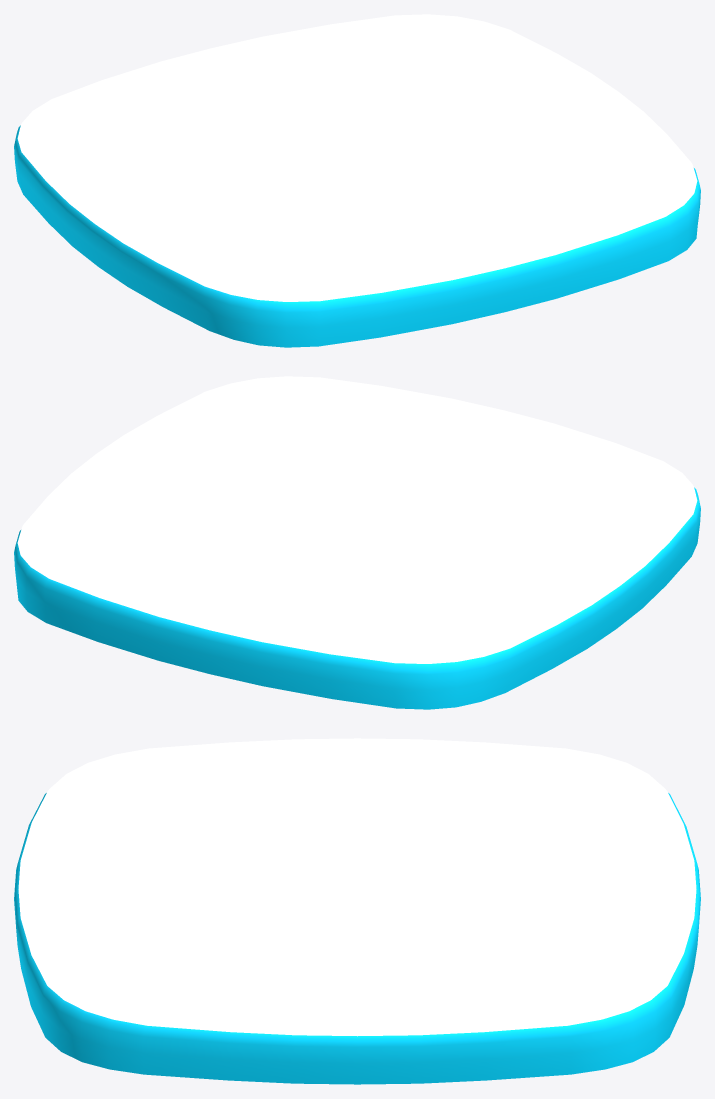
Rendered from ground_001.glb.
3 views of the same model, one above another, from view 1: azimuth 30°, elevation 25°; view 2: azimuth 150°, elevation 25°; view 3: azimuth 270°, elevation 25° (orthographic). The views are drawn at different scales.
Visible parts, largest first — view 1: ground_001; view 2: ground_001; view 3: ground_001.
Part boxes in pixels (x1,y1,x2,y2): ground_001: (14, 14, 700, 347); ground_001: (14, 376, 700, 709); ground_001: (14, 738, 700, 1084).
Bounding box in the file's own units: 38.95 × 4.38 × 38.2.
2 materials, 2 textured.
